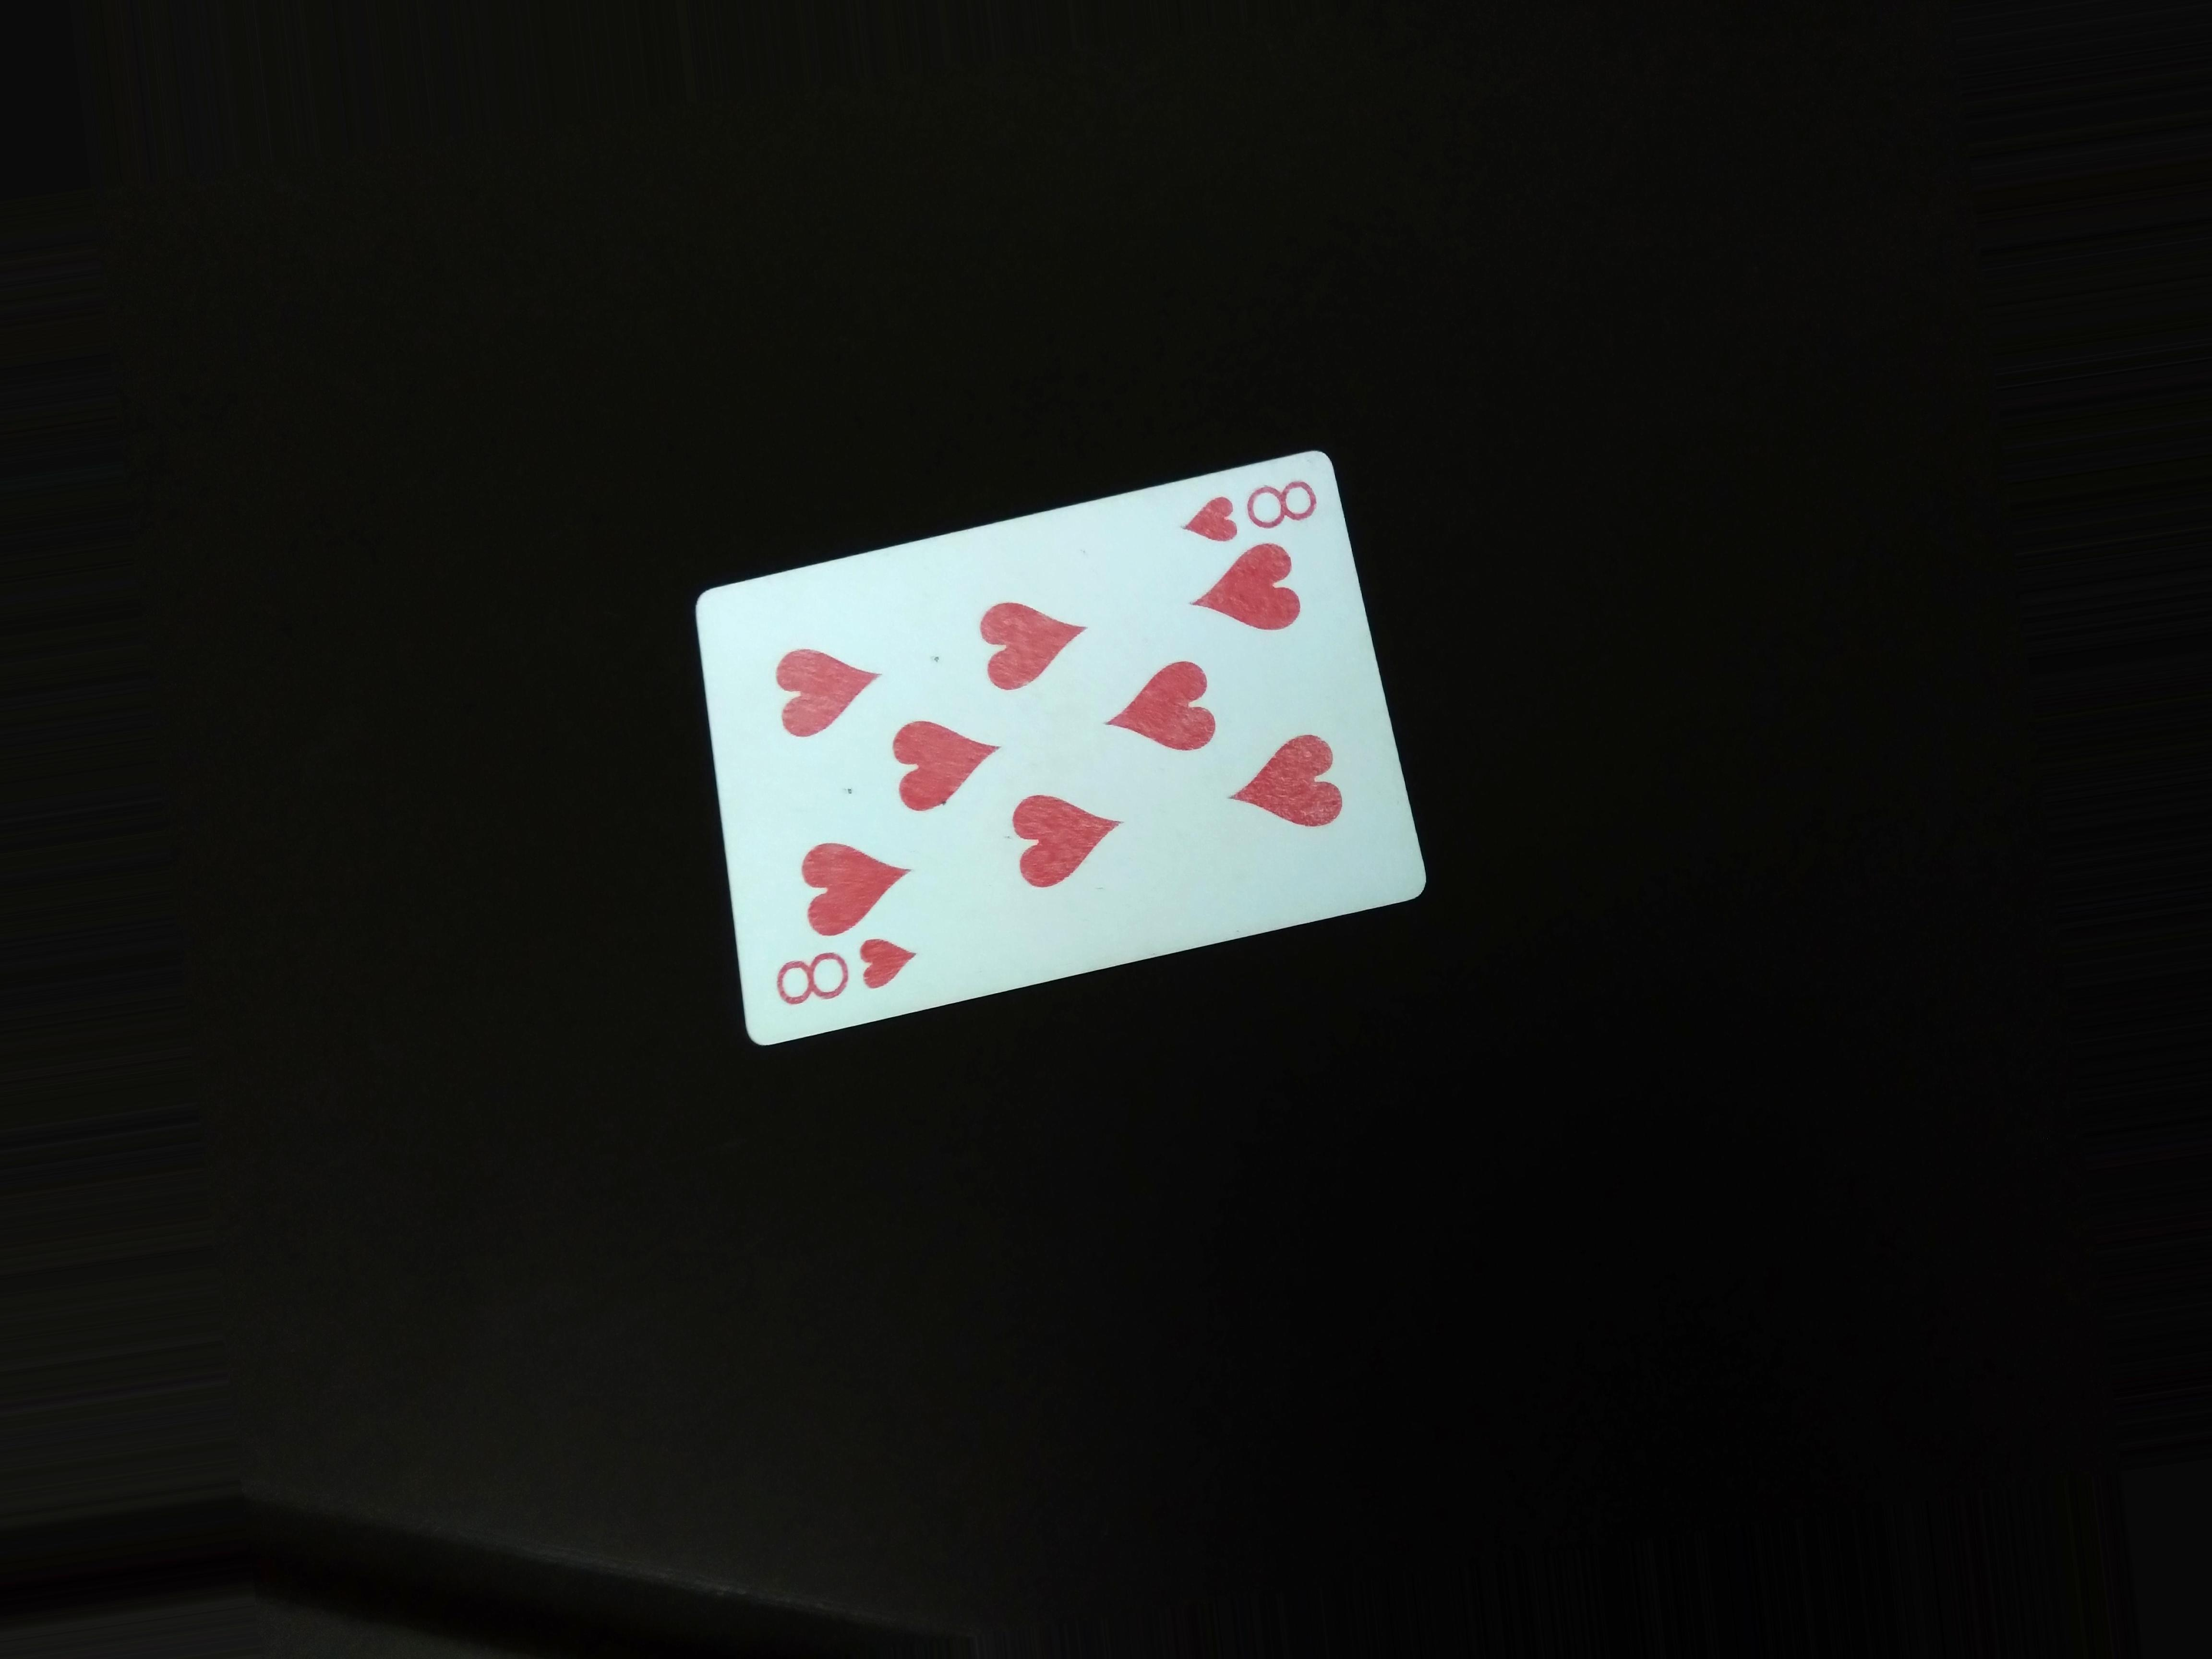8H: (761, 938, 921, 1023)
